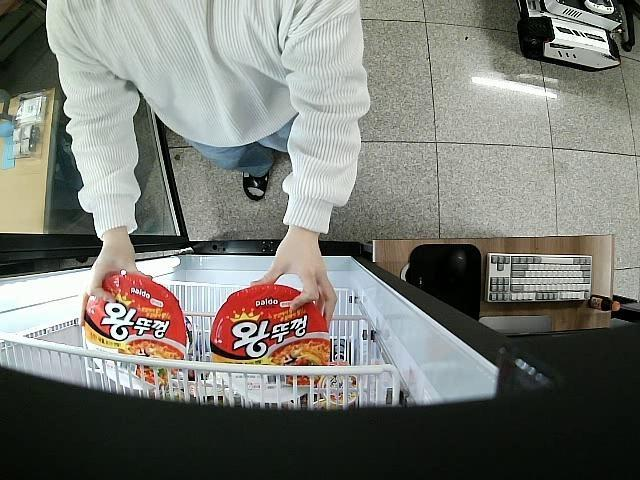10_wangTtukkeong: (211, 283, 332, 402), (84, 274, 188, 390)
